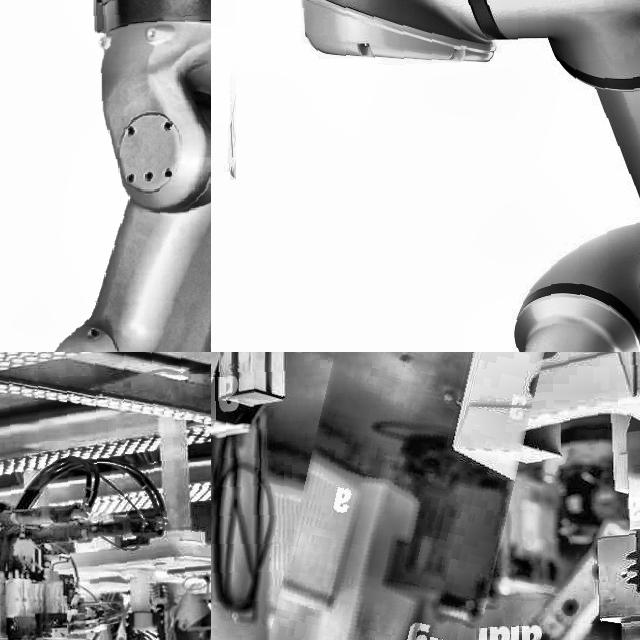robot: (230, 0, 640, 352), (211, 352, 640, 640), (270, 352, 528, 640), (0, 0, 211, 352), (0, 352, 211, 640)
